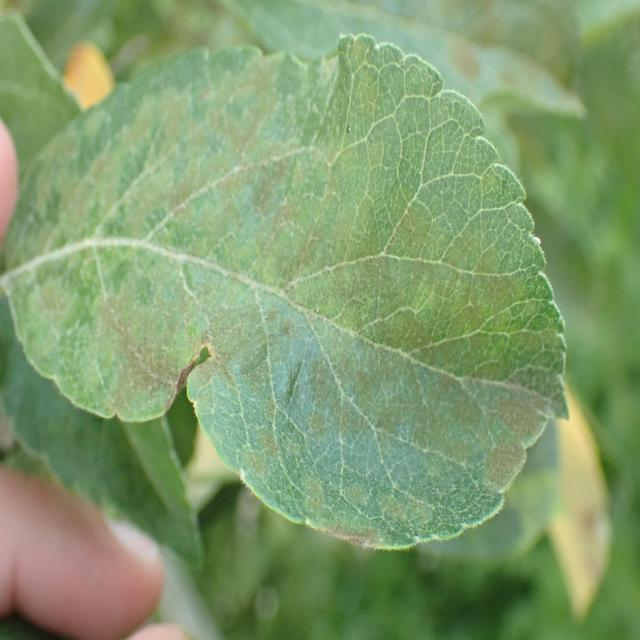scab: (17, 57, 567, 556)
